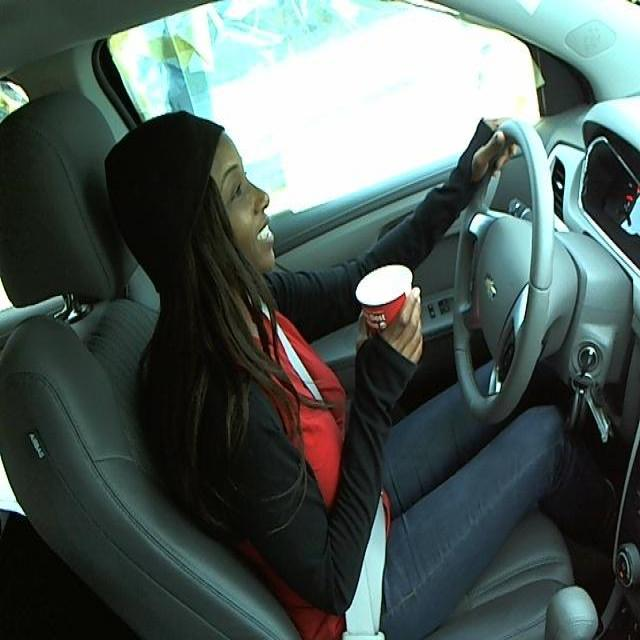drinking: (353, 258, 420, 374)
